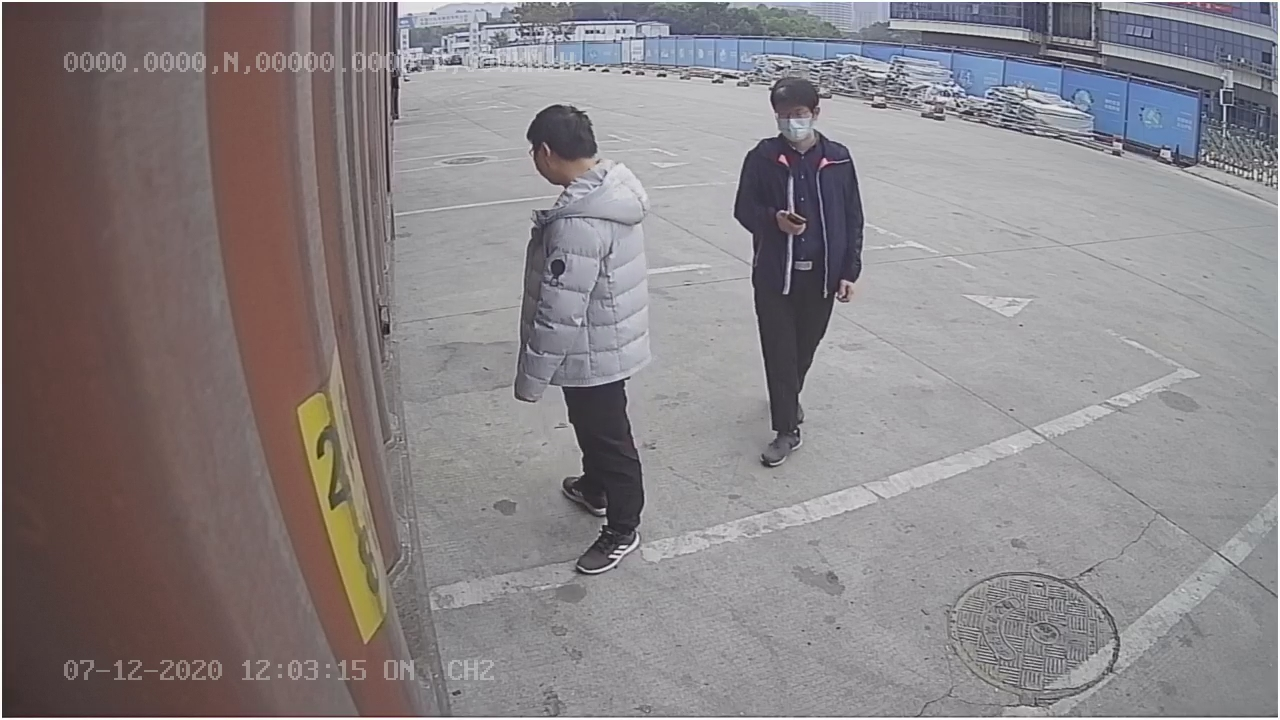person: (480, 97, 657, 574), (734, 68, 867, 487)
